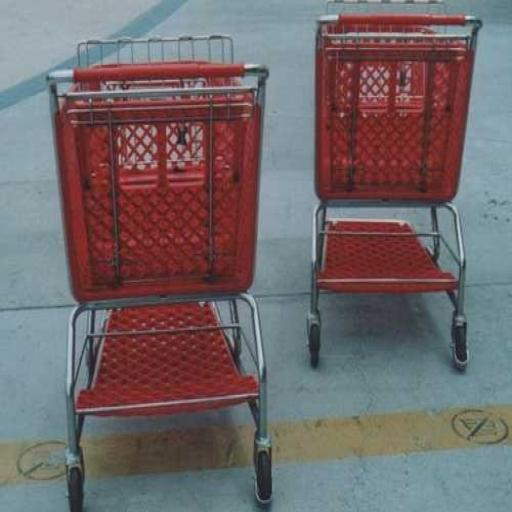shopping_cart: (47, 34, 273, 512), (304, 13, 486, 372)
